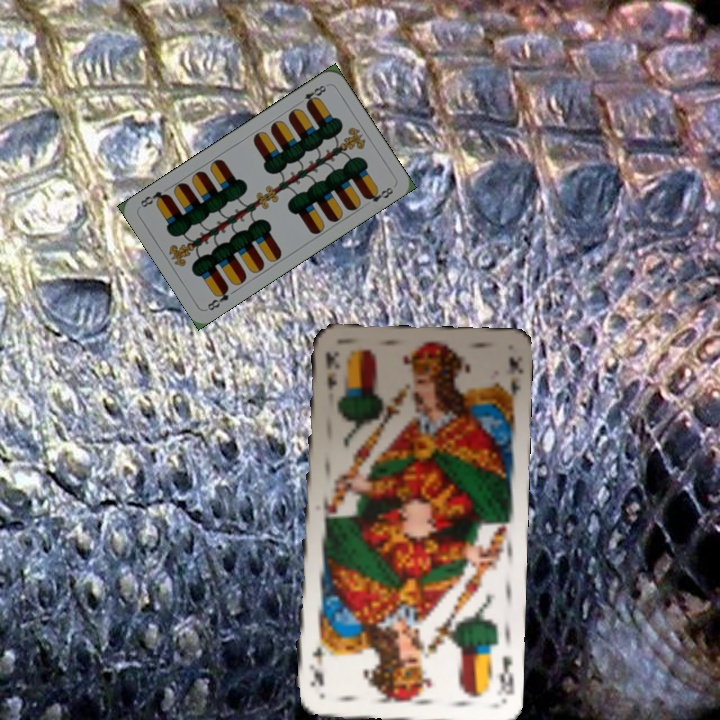E8: (203, 282, 232, 313), (300, 81, 330, 109)
EK: (493, 652, 515, 698), (321, 348, 338, 392)
